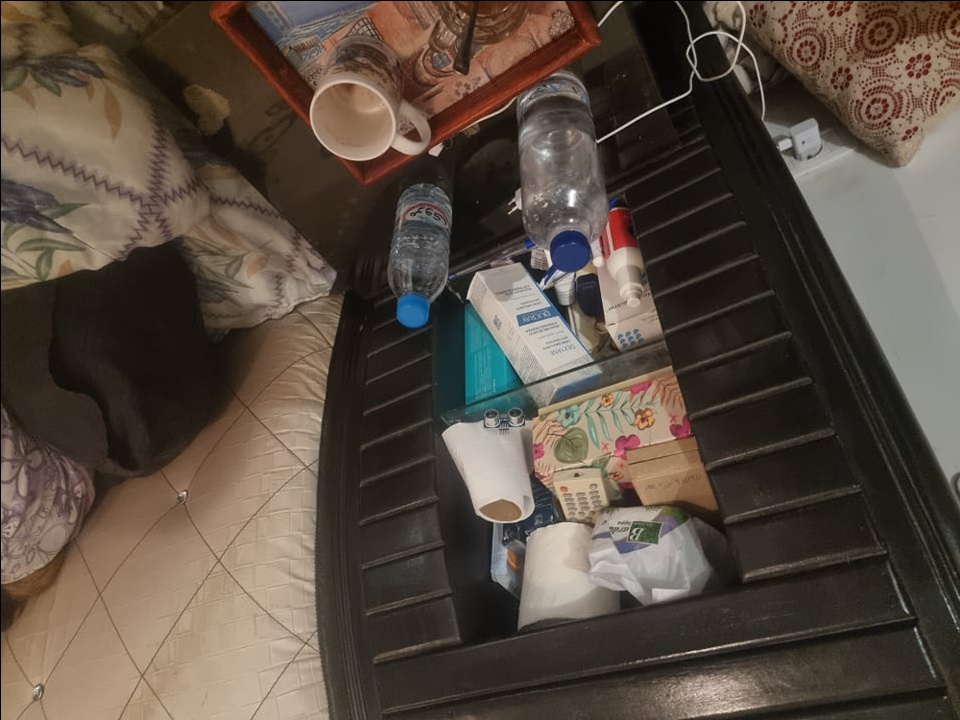SENSOR: (480, 404, 526, 431)
